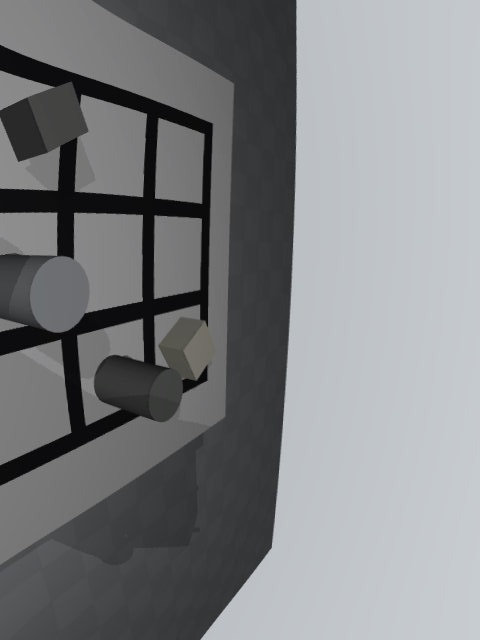can: (0, 255, 89, 333)
cube: (0, 82, 89, 162)
cylinder: (94, 355, 183, 422)
foam: (158, 317, 216, 381)
